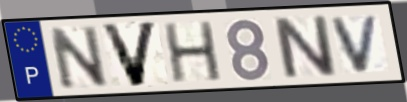8: (224, 16, 273, 83)
H: (160, 19, 226, 85)
N: (269, 13, 341, 81), (45, 23, 112, 92)
V: (98, 20, 161, 90), (328, 13, 383, 75)
